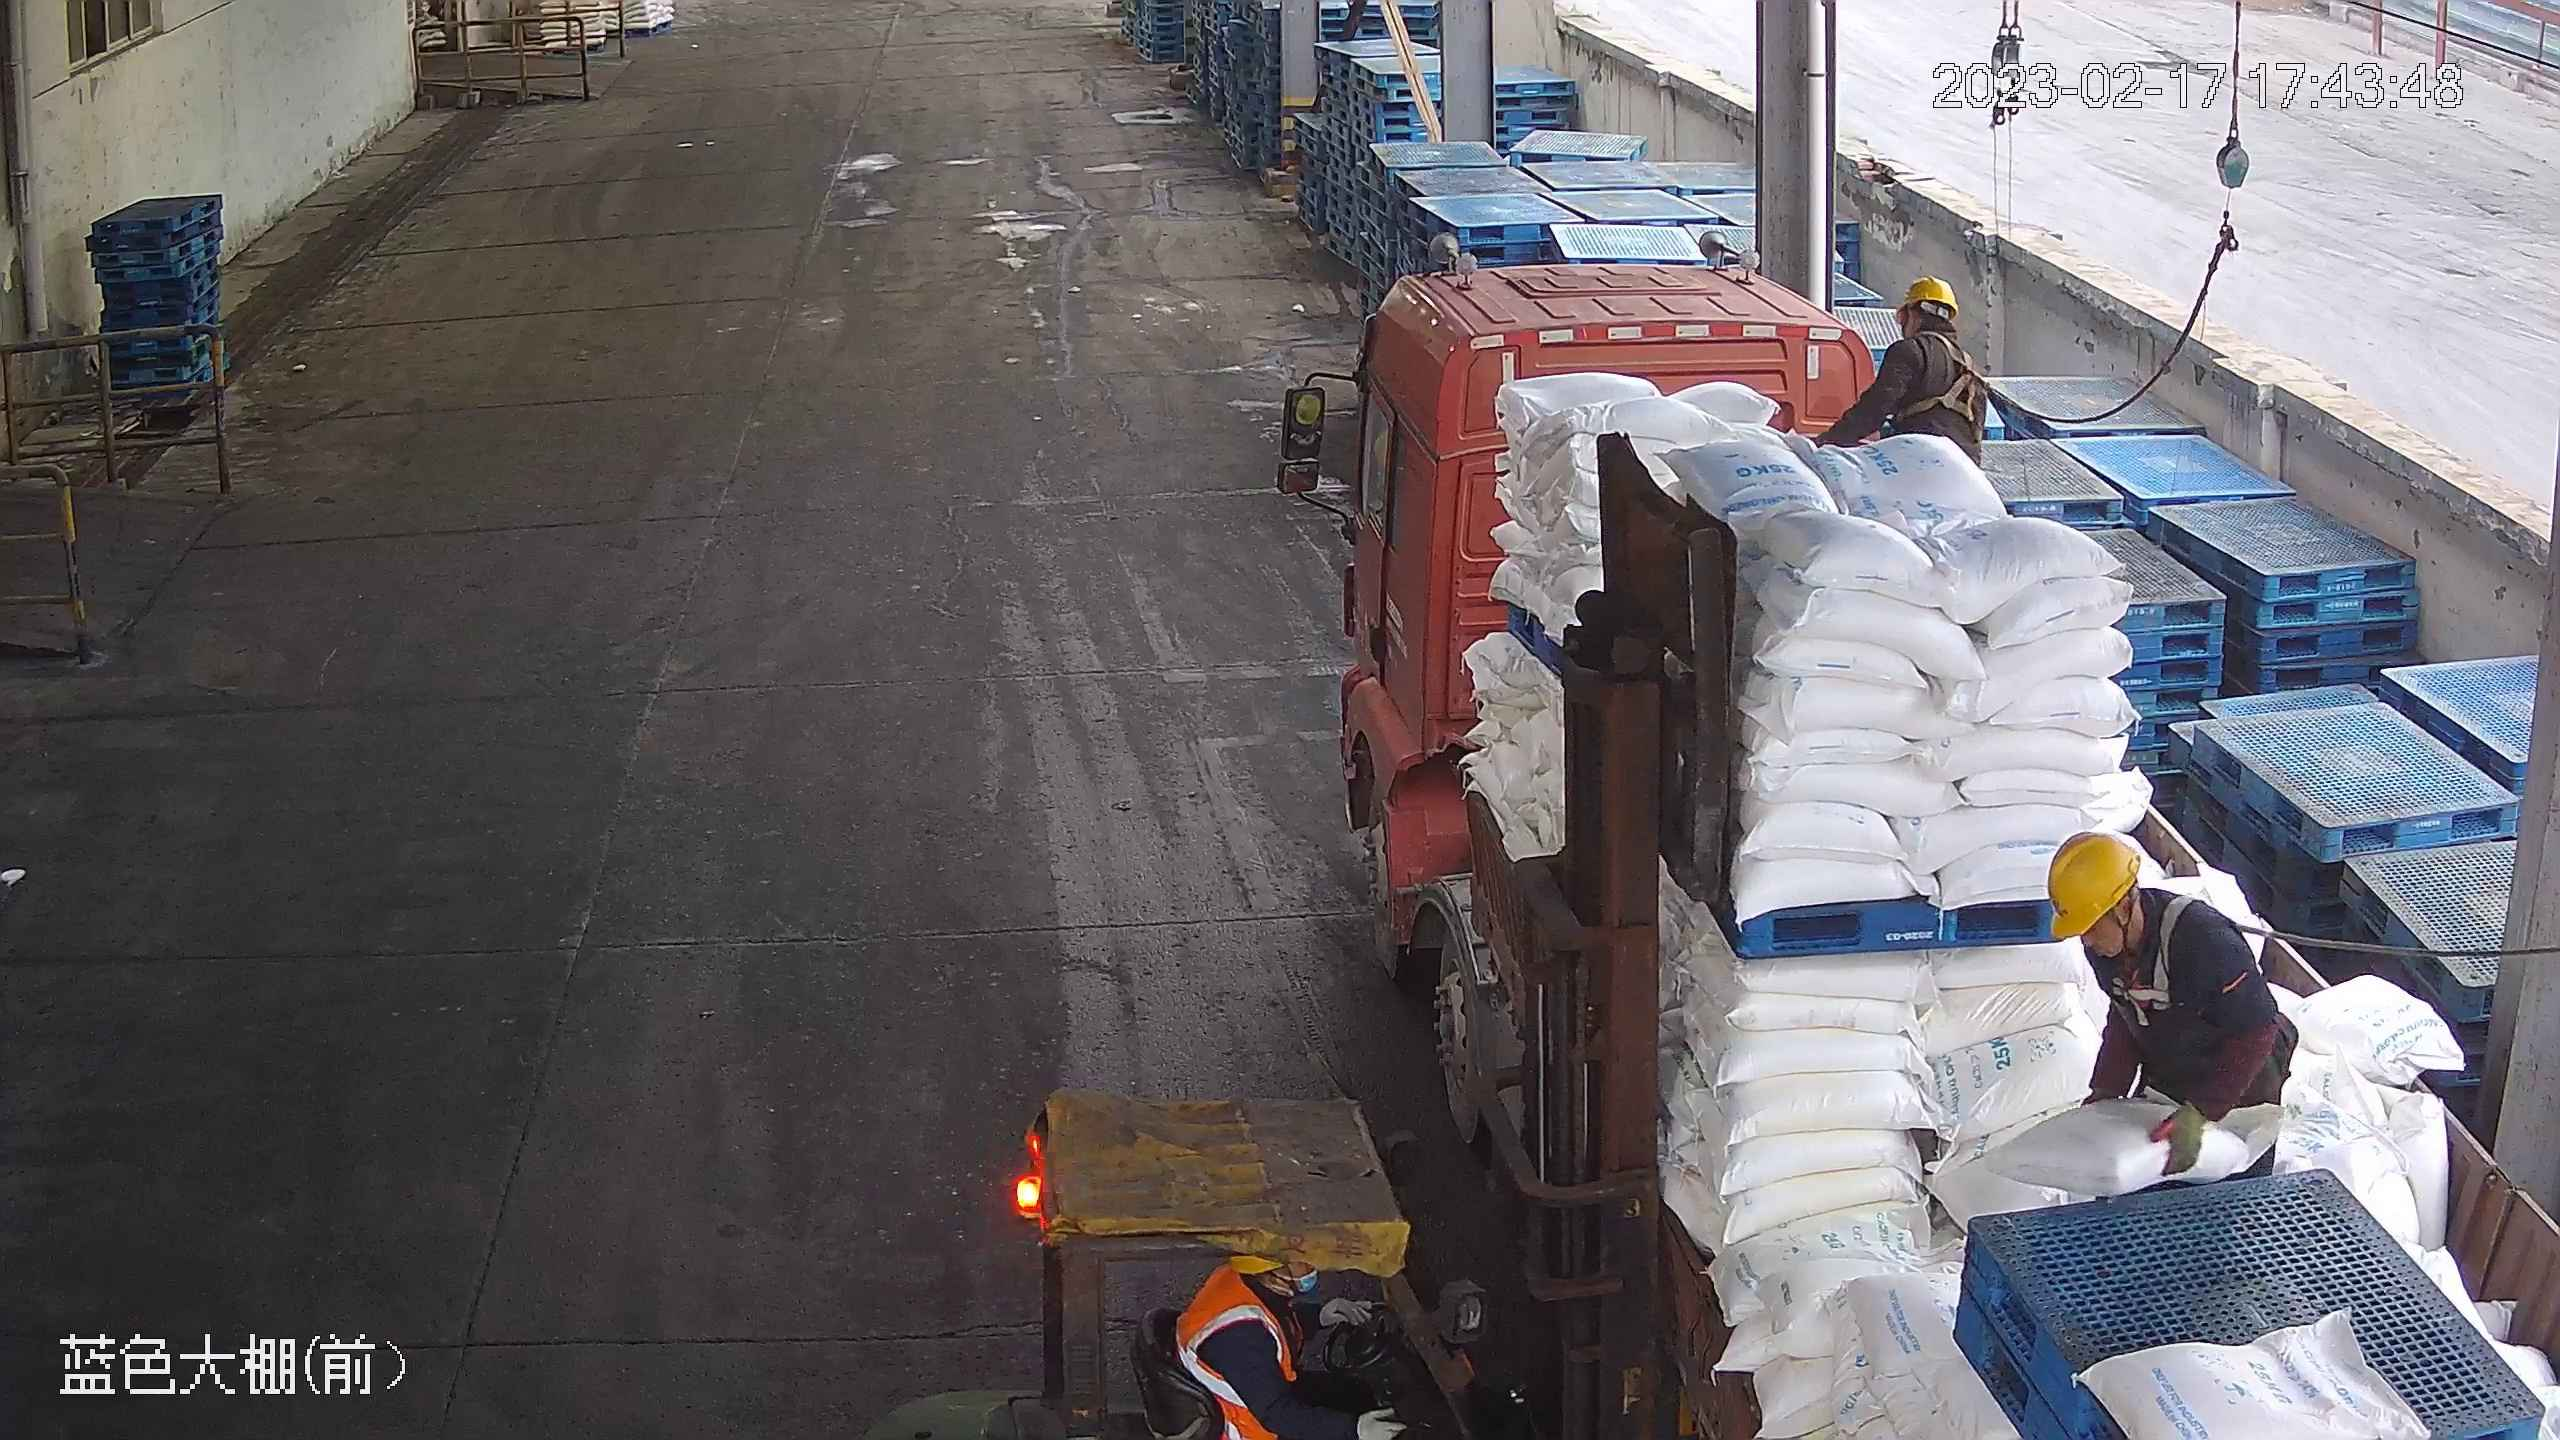belt: (2112, 899, 2213, 1033), (1896, 326, 1987, 420)
head: (2045, 833, 2231, 1029), (1841, 276, 1987, 417)
helmet: (2046, 832, 2146, 938), (1898, 277, 1961, 327)
people: (2045, 829, 2305, 1185)
truck: (1266, 239, 2560, 1440)
